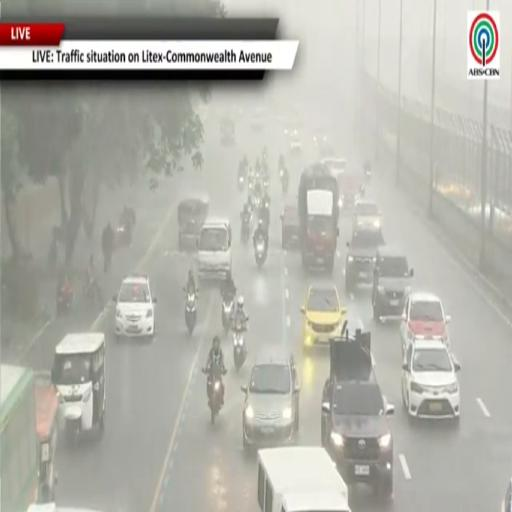bus: (0, 371, 59, 512), (0, 364, 38, 511)
car: (321, 329, 394, 498), (242, 347, 299, 449), (402, 340, 460, 419), (400, 292, 450, 355), (372, 246, 413, 321), (301, 284, 346, 350), (113, 275, 156, 339), (345, 230, 385, 293), (198, 218, 232, 280), (337, 166, 365, 215), (353, 200, 381, 229), (282, 205, 300, 249), (313, 131, 335, 157), (321, 156, 346, 177), (250, 107, 267, 132), (221, 117, 235, 146), (501, 478, 511, 511), (289, 138, 302, 156)
motorcycle: (202, 368, 223, 424), (184, 288, 198, 335), (233, 329, 246, 371), (83, 280, 103, 307), (57, 286, 73, 315), (222, 296, 234, 332), (115, 224, 131, 247), (255, 238, 266, 268), (241, 217, 251, 244), (259, 204, 269, 229), (279, 169, 288, 194), (282, 174, 288, 194), (364, 168, 371, 181), (254, 196, 261, 209), (239, 175, 244, 191), (263, 179, 269, 190), (248, 180, 253, 193)
truck: (298, 163, 339, 271)
